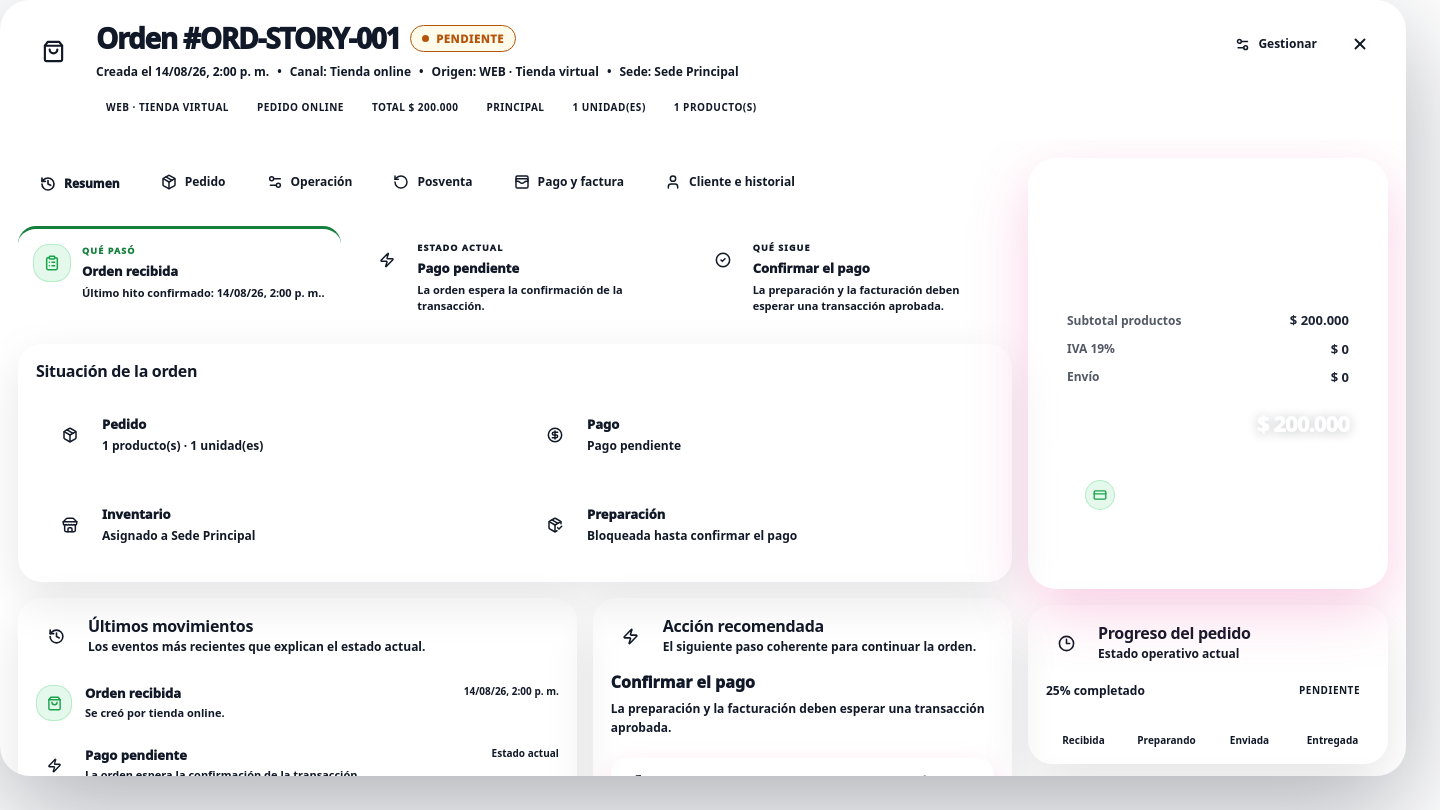
Scenario: pestañas del detalle › mantiene Gestionar como acción independiente y deja visible todo el encabezado
Expected: the header has style "flex: 0 0 auto", 0,0 -> 1406,140
Click the button "Gestionar".
click(1276, 44)  # box 1221,25 -> 1331,63
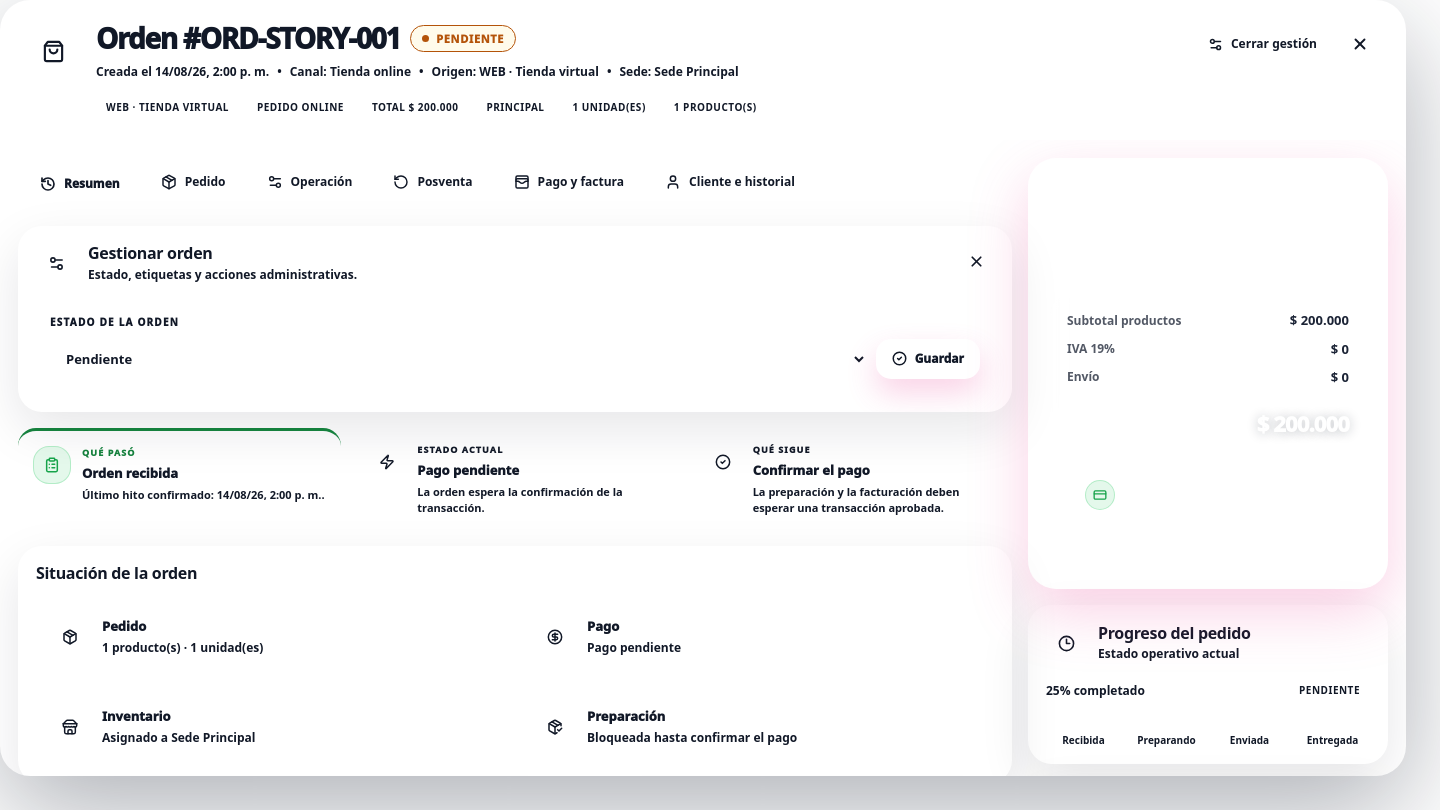
Expected: the heading "Gestionar orden" is shown, 88,242 -> 212,264
Expected: the button "Cerrar gestión" is shown, 1194,25 -> 1331,63
